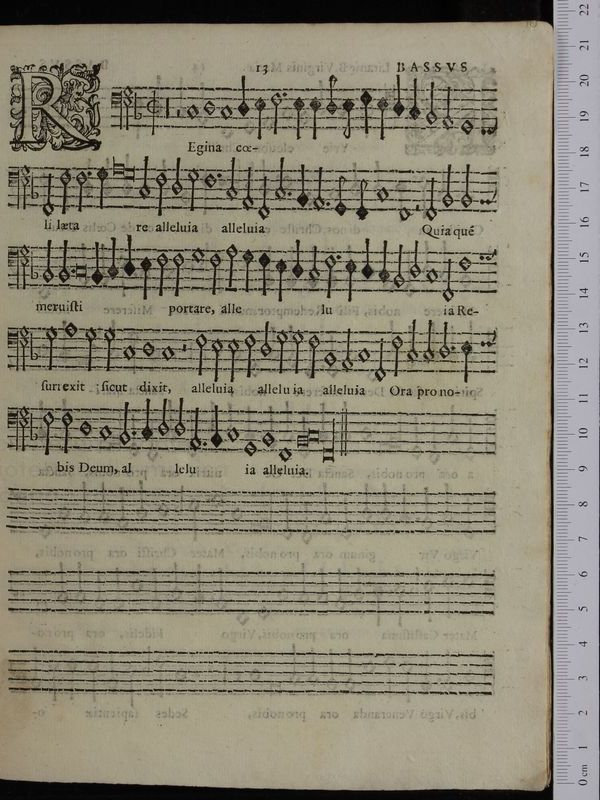barline: (336, 396, 353, 463)
f clef_5: (1, 394, 28, 454)
flat_9: (25, 410, 39, 447)
l1breve_9: (293, 431, 308, 451)
l2breve_8: (307, 424, 321, 444)
longa_12: (319, 411, 338, 464)
minim_10: (188, 405, 203, 454)
minim_5: (57, 404, 74, 458), (39, 406, 56, 455)
minim_7: (171, 392, 186, 441), (157, 391, 170, 440)
minim_9: (115, 405, 132, 451)
point: (196, 435, 210, 452), (125, 425, 138, 441)
semibreve_11: (241, 433, 260, 463)
semibreve_12: (275, 439, 293, 465)
semibreve_7: (76, 412, 94, 442)
semibreve_8: (96, 416, 114, 447), (225, 419, 242, 447)
semibreve_9: (258, 424, 277, 451)
semiminim_8: (141, 407, 154, 452)
semiminim_9: (208, 399, 224, 453)
